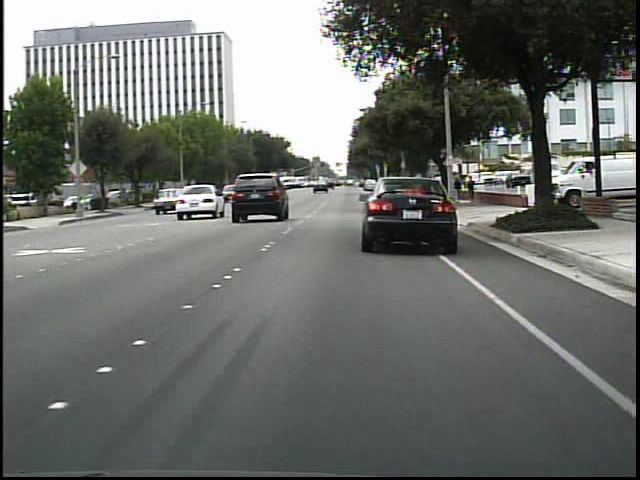person: (465, 174, 477, 204), (453, 176, 463, 204)
